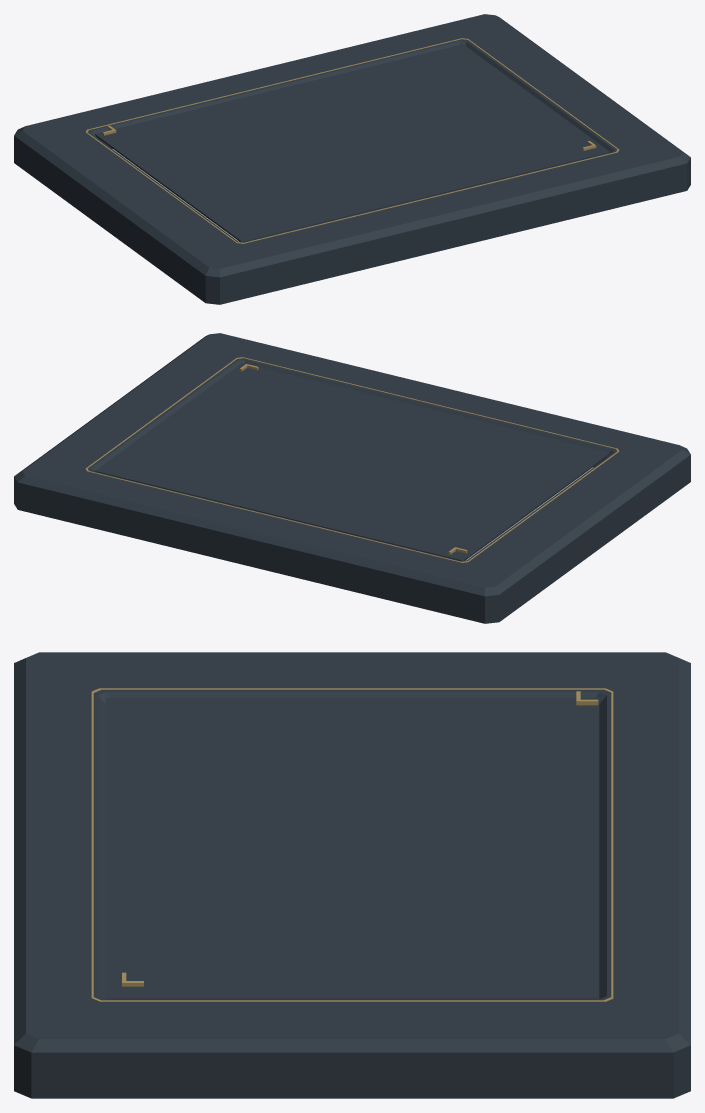
Rendered from room01-trace-frame.glb.
3 views of the same model, one above another, from view 1: azimuth 30°, elevation 25°; view 2: azimuth 150°, elevation 25°; view 3: azimuth 270°, elevation 25° (orthographic). The views are drawn at different scales.
Visible parts, largest first — view 1: PhotoFrameHero; view 2: PhotoFrameHero; view 3: PhotoFrameHero.
Boxes of the visible parts, x1,y1,x2,y2 form: PhotoFrameHero: (14,14,690,304); PhotoFrameHero: (14,333,690,623); PhotoFrameHero: (14,652,690,1098).
Bounding box in the file's own units: 0.86 × 0.061 × 0.62.
